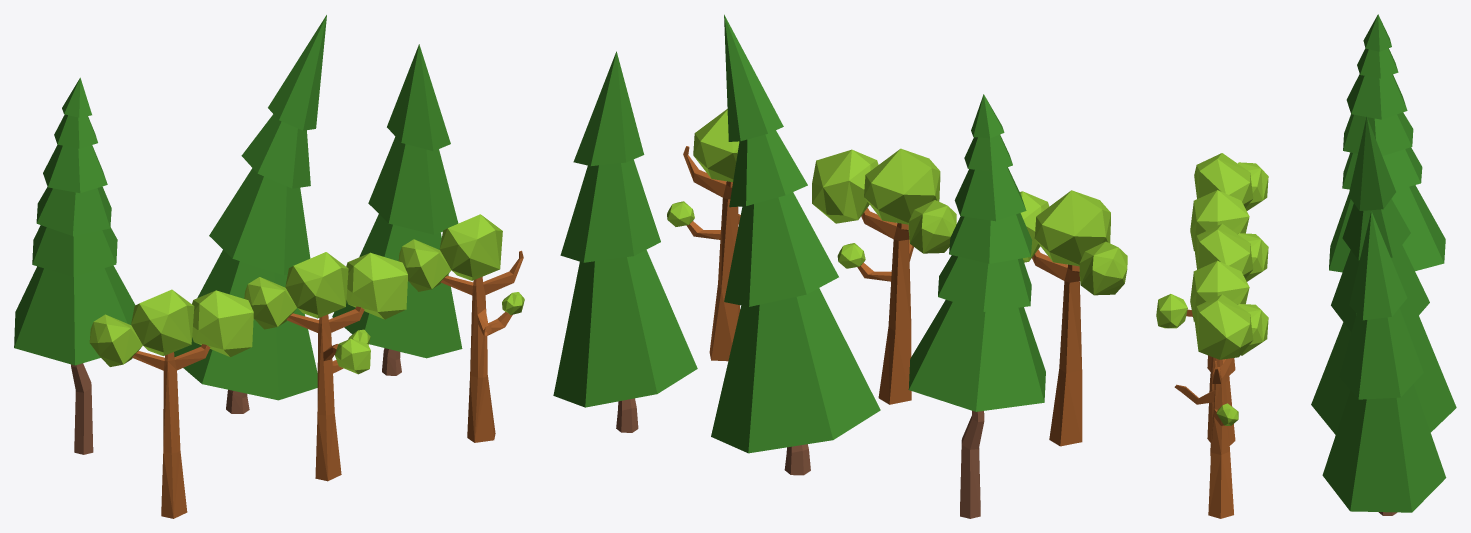
Rendered from Small Trees.glb.
The picture shows the model from 3 angles, left to right: view 1: azimuth 30°, elevation 25°; view 2: azimuth 150°, elevation 25°; view 3: azimuth 270°, elevation 25°; orthographic projection. The views are drawn at different scales.
Visible parts, largest first — view 1: Pine_Tree_02, Pine_Tree_01, Pine_Tree_03, Tree_02, Tree_01, Tree_03; view 2: Pine_Tree_02, Pine_Tree_03, Pine_Tree_01, Tree_02, Tree_01, Tree_03; view 3: Pine_Tree_03, Pine_Tree_02, Pine_Tree_01, Tree_03, Tree_02, Tree_01.
Boxes of the visible parts, x1=… form: Pine_Tree_02: x1=174, y1=15, x2=326, y2=413; Pine_Tree_01: x1=14, y1=77, x2=135, y2=454; Pine_Tree_03: x1=332, y1=44, x2=462, y2=375; Tree_02: x1=244, y1=252, x2=407, y2=481; Tree_01: x1=89, y1=289, x2=253, y2=518; Tree_03: x1=398, y1=214, x2=524, y2=442; Pine_Tree_02: x1=711, y1=14, x2=880, y2=475; Pine_Tree_03: x1=553, y1=51, x2=697, y2=432; Pine_Tree_01: x1=908, y1=94, x2=1045, y2=518; Tree_02: x1=812, y1=148, x2=956, y2=404; Tree_01: x1=1020, y1=190, x2=1127, y2=446; Tree_03: x1=667, y1=109, x2=740, y2=361; Pine_Tree_03: x1=1322, y1=211, x2=1446, y2=515; Pine_Tree_02: x1=1311, y1=116, x2=1456, y2=434; Pine_Tree_01: x1=1329, y1=14, x2=1445, y2=272; Tree_03: x1=1174, y1=294, x2=1268, y2=518; Tree_02: x1=1156, y1=223, x2=1268, y2=445; Tree_01: x1=1190, y1=153, x2=1268, y2=375.
Size of the model in its own units: 5.59 by 4.8 by 3.59.
Materials: 2 (2 with a texture image).
